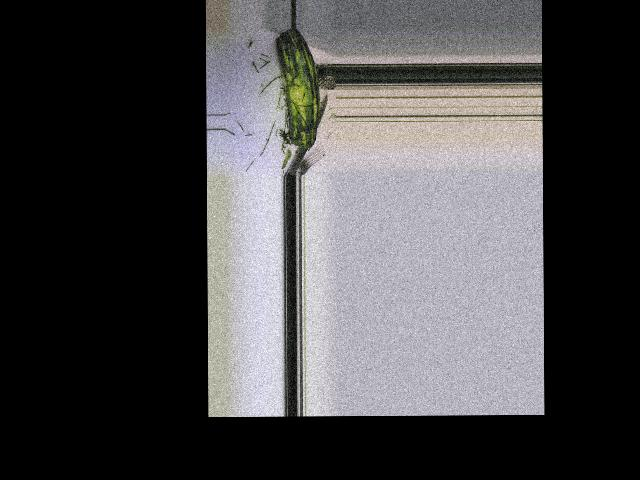cucumber: (275, 28, 319, 149)
